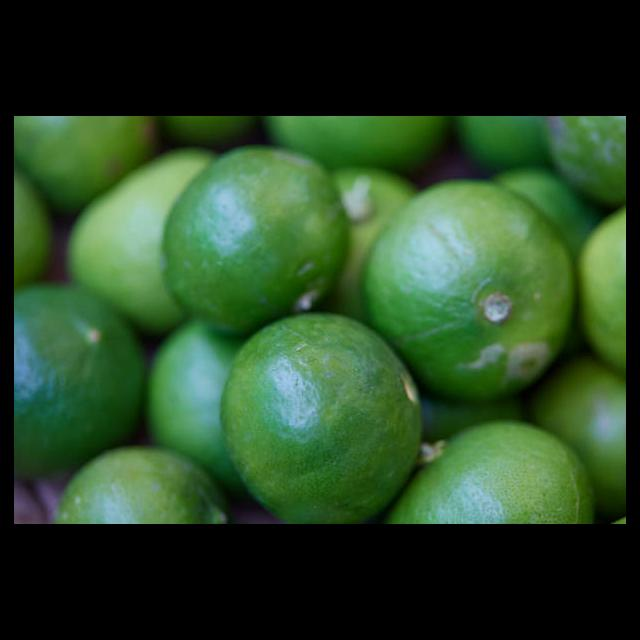lime: (367, 180, 576, 405), (224, 313, 423, 524)
